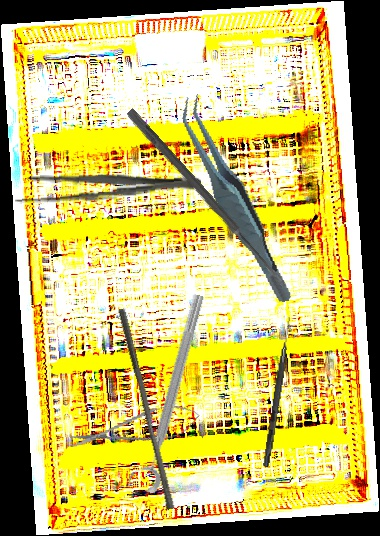Dressing Forceps: (13, 167, 202, 207)
Fixation Ring: (124, 289, 211, 495)
Hook Surgical: (263, 316, 292, 468)
Micro Scissor: (67, 397, 204, 460)
Pusher: (109, 307, 183, 511)
Surgical Spoon: (124, 107, 290, 290)
Tissue Forceps: (177, 84, 293, 315)
